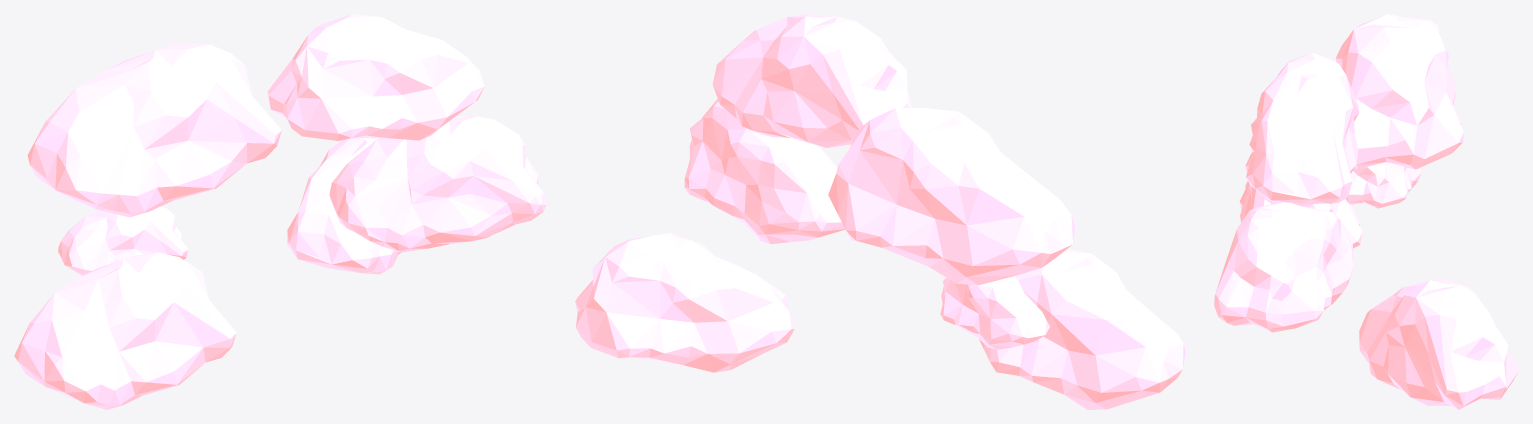
Rendered from leaf.fbx.
3 renders of one model, left to right at view 1: azimuth 30°, elevation 25°; view 2: azimuth 150°, elevation 25°; view 3: azimuth 270°, elevation 25°, orthographic. The views are drawn at different scales.
Parts seen in each view (by area): view 1: leaf-2, leaf-1, leaf-3, leaf-5, leaf-4, leaf-6; view 2: leaf-2, leaf-4, leaf-5, leaf-1, leaf-3, leaf-6; view 3: leaf-4, leaf-2, leaf-3, leaf-5, leaf-6, leaf-1.
Part boxes in pixels (x1,y1,x2,y2): leaf-2: [27, 43, 281, 217]; leaf-1: [14, 252, 236, 409]; leaf-3: [329, 115, 546, 252]; leaf-5: [267, 14, 484, 140]; leaf-4: [287, 138, 401, 274]; leaf-6: [58, 206, 187, 275]; leaf-2: [828, 108, 1074, 285]; leaf-4: [575, 233, 794, 372]; leaf-5: [712, 14, 911, 147]; leaf-1: [979, 249, 1185, 409]; leaf-3: [684, 99, 845, 244]; leaf-6: [940, 276, 1049, 349]; leaf-4: [1359, 279, 1518, 409]; leaf-2: [1335, 14, 1463, 169]; leaf-3: [1214, 202, 1352, 332]; leaf-5: [1246, 52, 1359, 203]; leaf-6: [1345, 162, 1421, 208]; leaf-1: [1239, 152, 1362, 248].
Size of the model in its own units: 14214 by 8266 by 7675.
